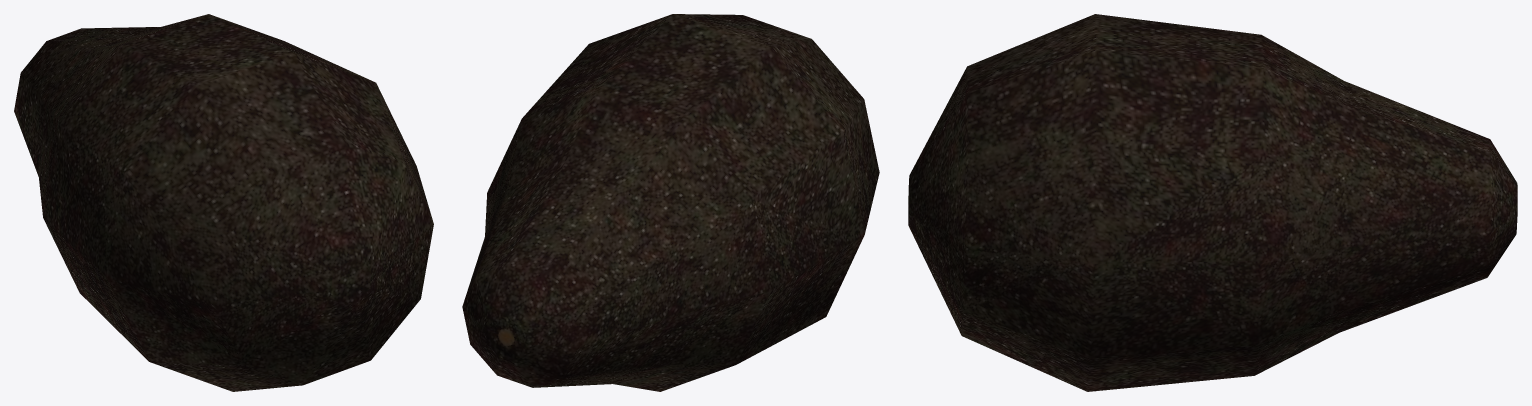
Rendered from aguacate.glb.
3 views of the same model, side by side, from view 1: azimuth 30°, elevation 25°; view 2: azimuth 150°, elevation 25°; view 3: azimuth 270°, elevation 25° (orthographic). The views are drawn at different scales.
Visible parts, largest first — view 1: aguacate_Cylinder.006; view 2: aguacate_Cylinder.006; view 3: aguacate_Cylinder.006.
Boxes of the visible parts, left/top/right/bottom form: aguacate_Cylinder.006: left=14, top=14, right=433, bottom=391; aguacate_Cylinder.006: left=462, top=14, right=879, bottom=391; aguacate_Cylinder.006: left=908, top=14, right=1517, bottom=391.
Size of the model in its own units: 0.1425 by 0.1403 by 0.2312.
Materials: 1 (1 with a texture image).
